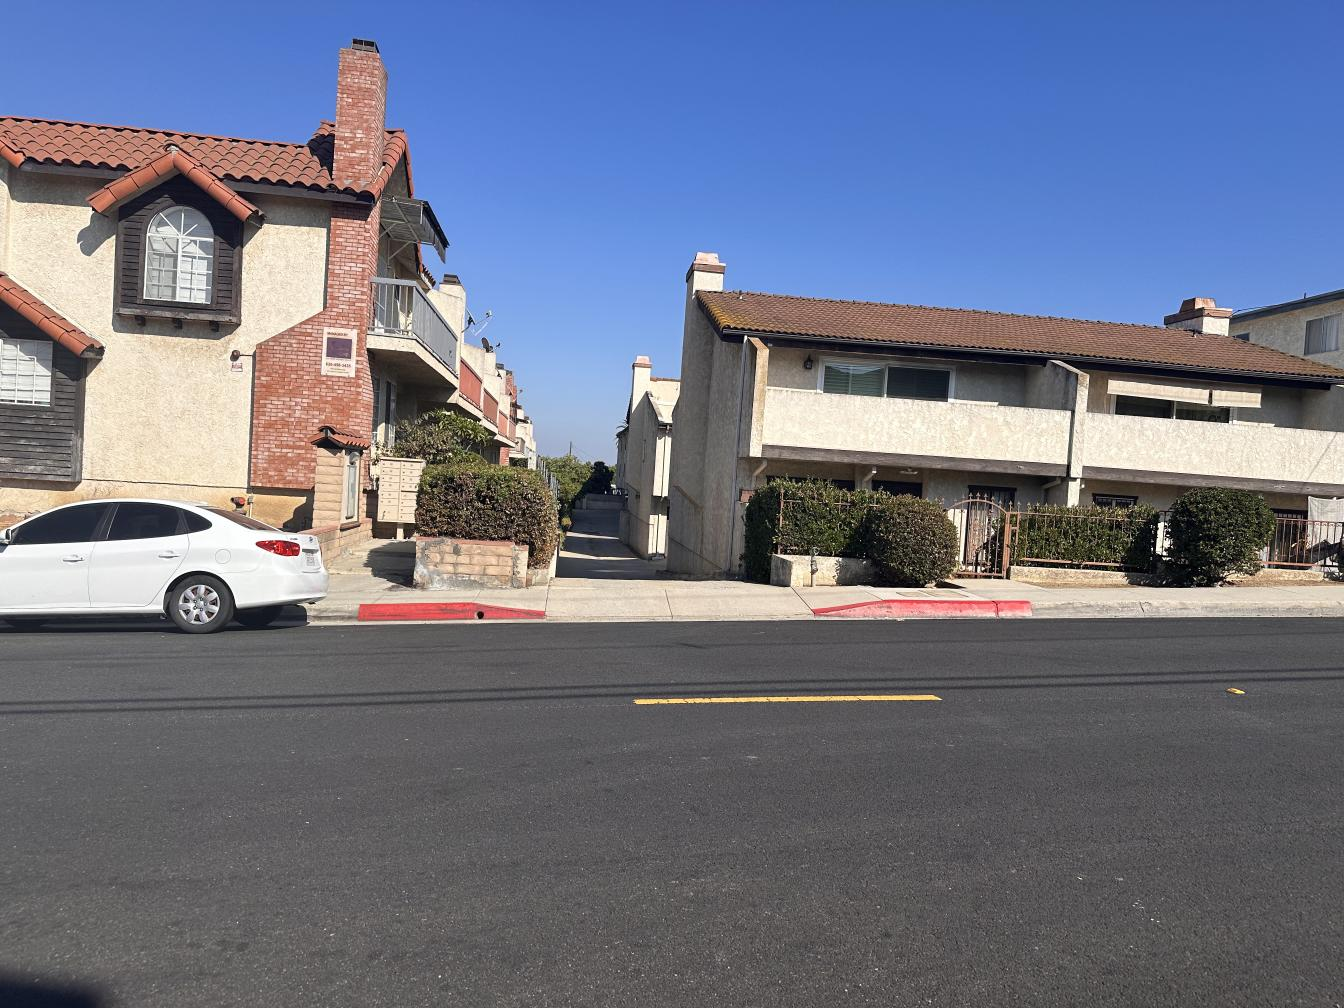curbs-laRr: (1034, 600, 1344, 622)
